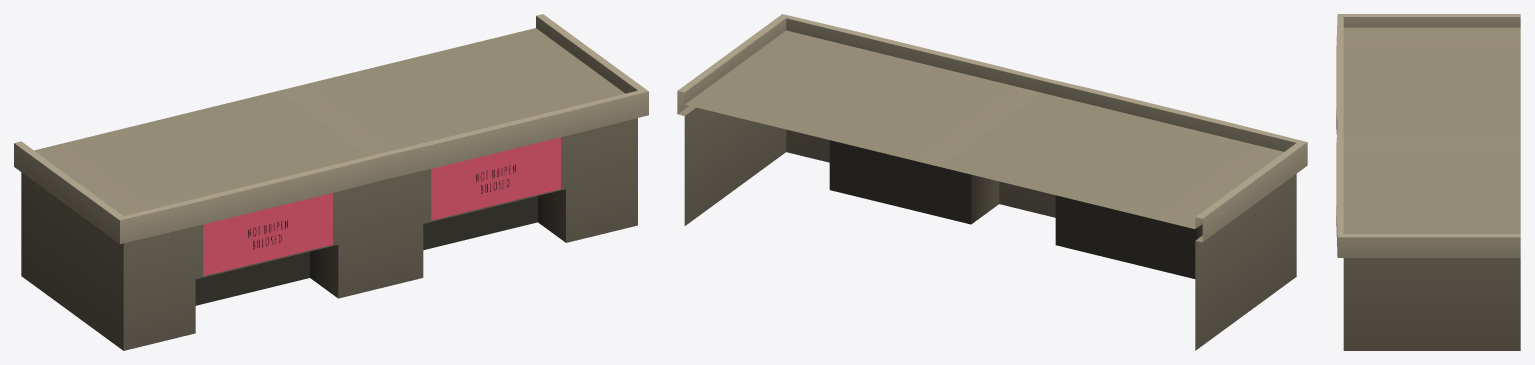
File: Wall building2.fbx
3 views of the same model, side by side, from view 1: azimuth 30°, elevation 25°; view 2: azimuth 150°, elevation 25°; view 3: azimuth 270°, elevation 25° (orthographic). The views are drawn at different scales.
Parts seen in each view (by area): view 1: Wall building2; view 2: Wall building2; view 3: Wall building2.
Boxes of the visible parts, x1,y1,x2,y2 form: Wall building2: (14,14,648,350); Wall building2: (677,14,1307,350); Wall building2: (1336,14,1520,350).
Bounding box in the file's own units: 24.21 × 5.9 × 8.43.
1 material, 1 textured.
